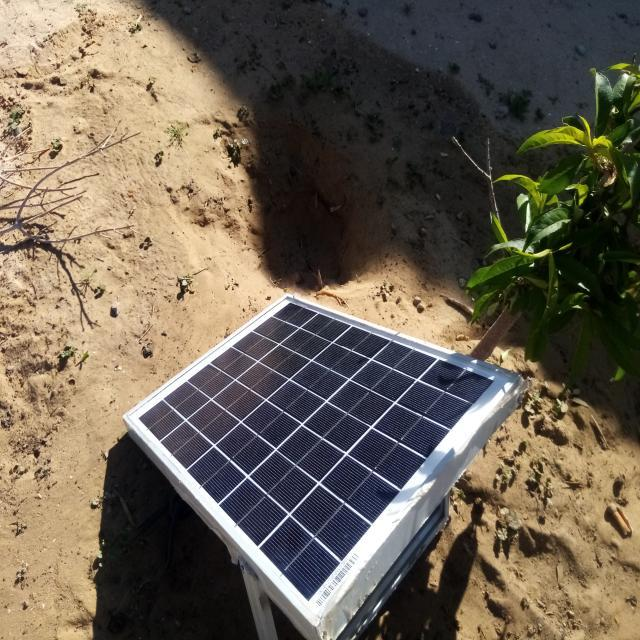no faulty: (126, 297, 520, 626)
